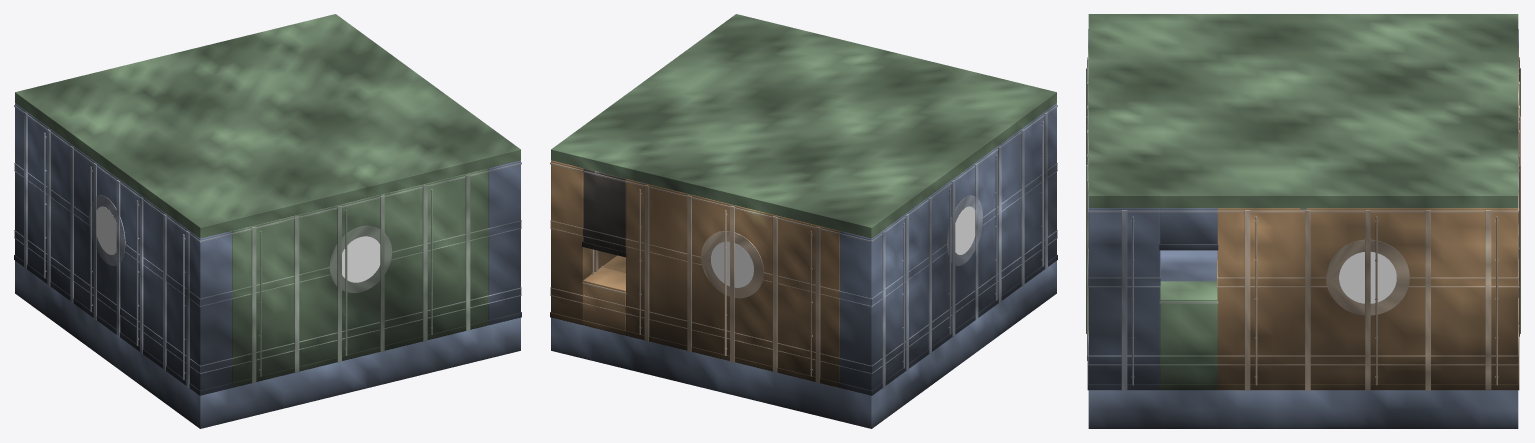
Rendered from SM_Tower_A.fbx.
3 renders of one model, left to right at view 1: azimuth 30°, elevation 25°; view 2: azimuth 150°, elevation 25°; view 3: azimuth 270°, elevation 25°, orthographic. The views are drawn at different scales.
Parts seen in each view (by area): view 1: SM_Tower_A; view 2: SM_Tower_A; view 3: SM_Tower_A.
Part boxes in pixels (left/top/right/bottom): SM_Tower_A: left=14, top=14, right=521, bottom=428; SM_Tower_A: left=550, top=14, right=1057, bottom=428; SM_Tower_A: left=1086, top=14, right=1520, bottom=428.
Size of the model in its own units: 3036 by 1800 by 3035.
